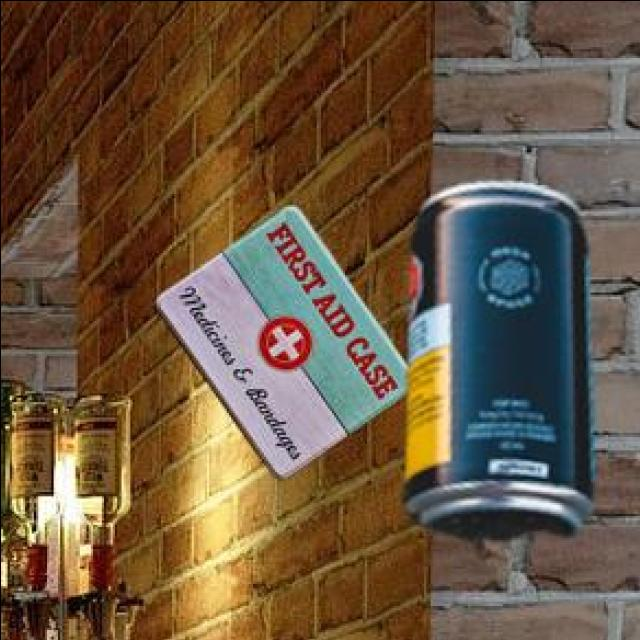logam: (400, 176, 591, 536), (152, 203, 404, 475)
